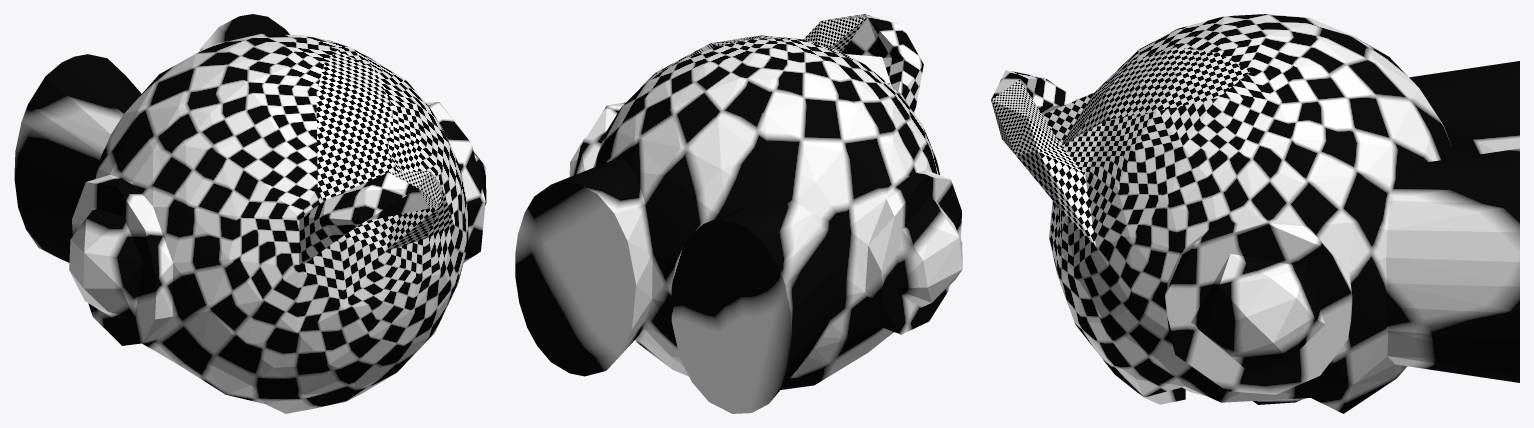
File: marvin.obj
The picture shows the model from 3 angles, left to right: view 1: azimuth 30°, elevation 25°; view 2: azimuth 150°, elevation 25°; view 3: azimuth 270°, elevation 25°; orthographic projection. The views are drawn at different scales.
Bounding box in the file's own units: 24.5 × 19.42 × 25.31.
